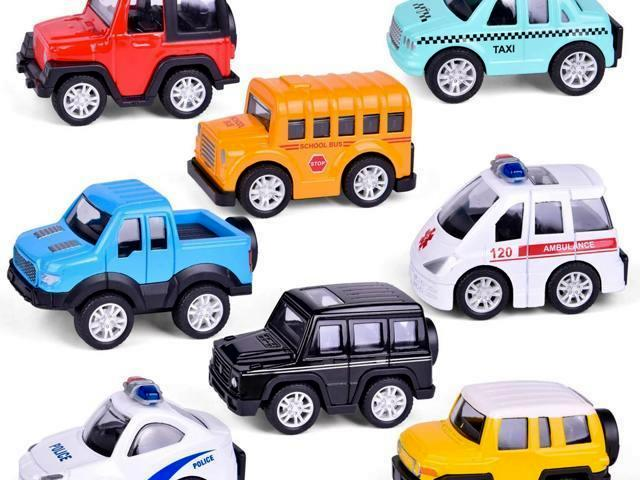toy-car: (6, 179, 259, 350), (410, 154, 629, 321), (208, 281, 439, 435), (187, 70, 418, 218), (16, 0, 241, 127), (386, 0, 624, 105), (19, 375, 246, 480), (392, 380, 620, 480)
